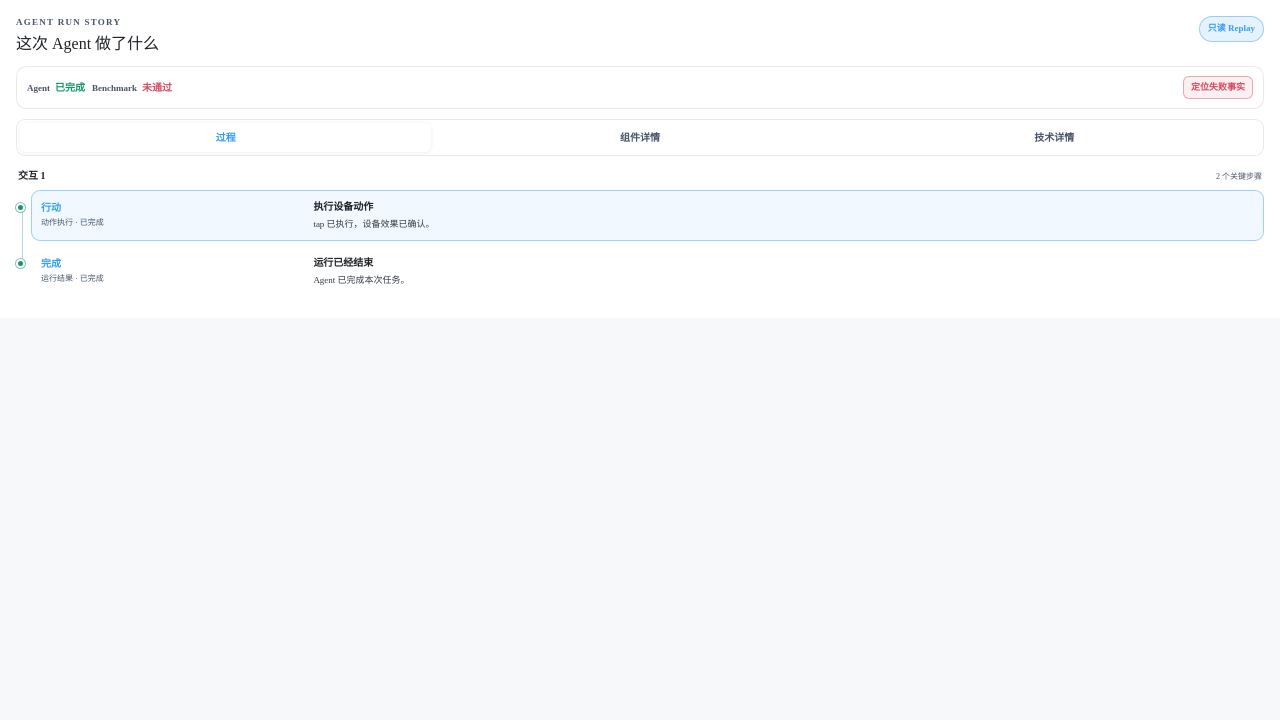
Test case: RunInspector › shows Action Executor effect results in output detail
Click the button "行动 动作执行 · 已完成 执行设备动作 tap 已执行，设备效果已确认。".
click(57, 222)  # box [31,190,1264,241]
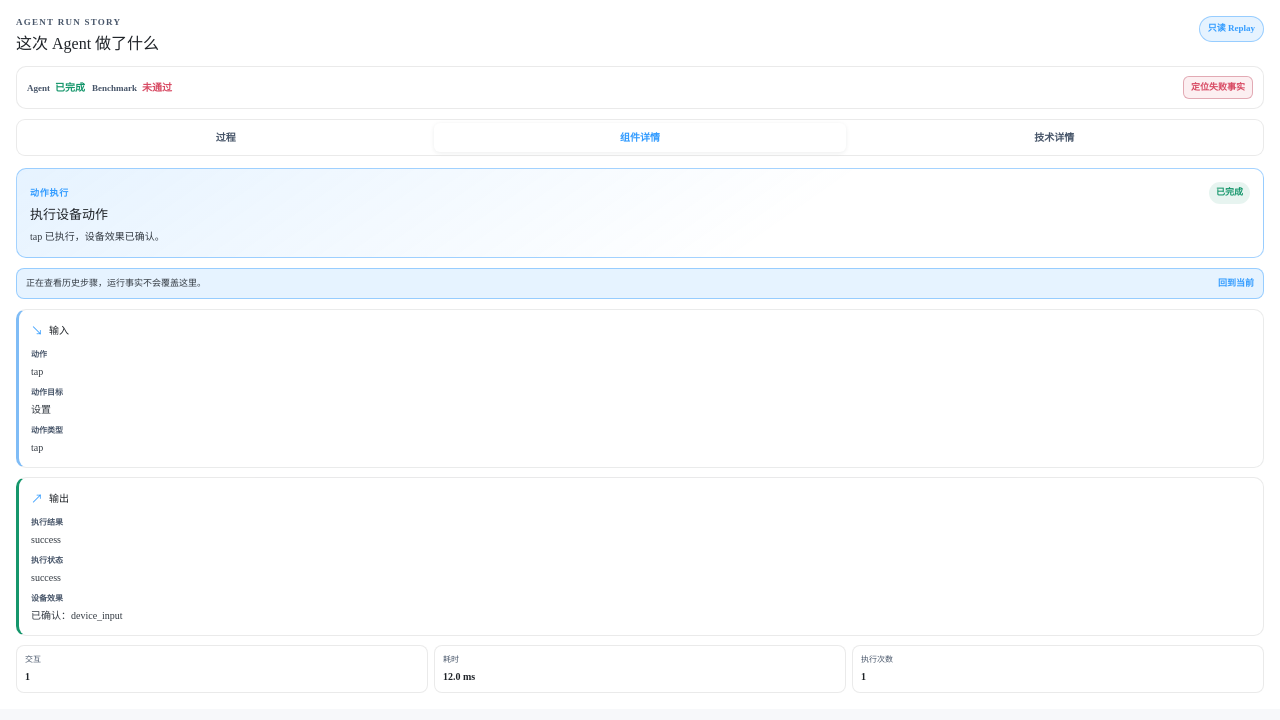
Check: the text "tap 已执行，设备效果已确认。" is shown, box [30,229,165,244]
Check: the text "已确认：device_input" is shown, box [31,610,123,621]
